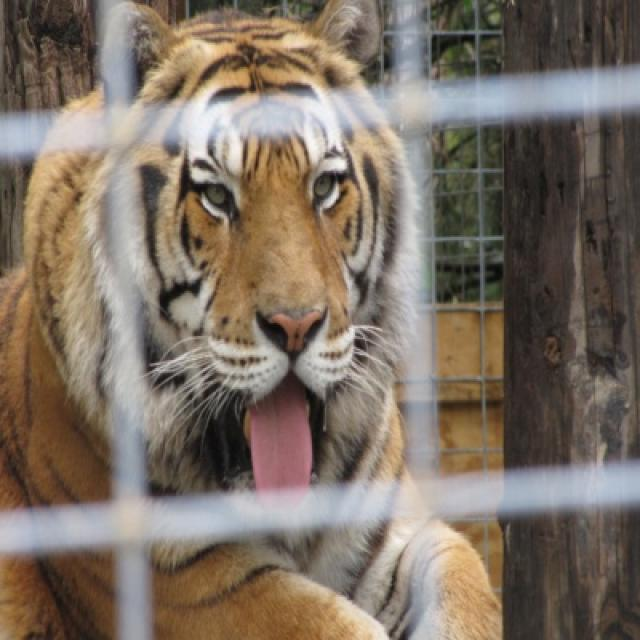Tiger: (0, 0, 501, 638)
